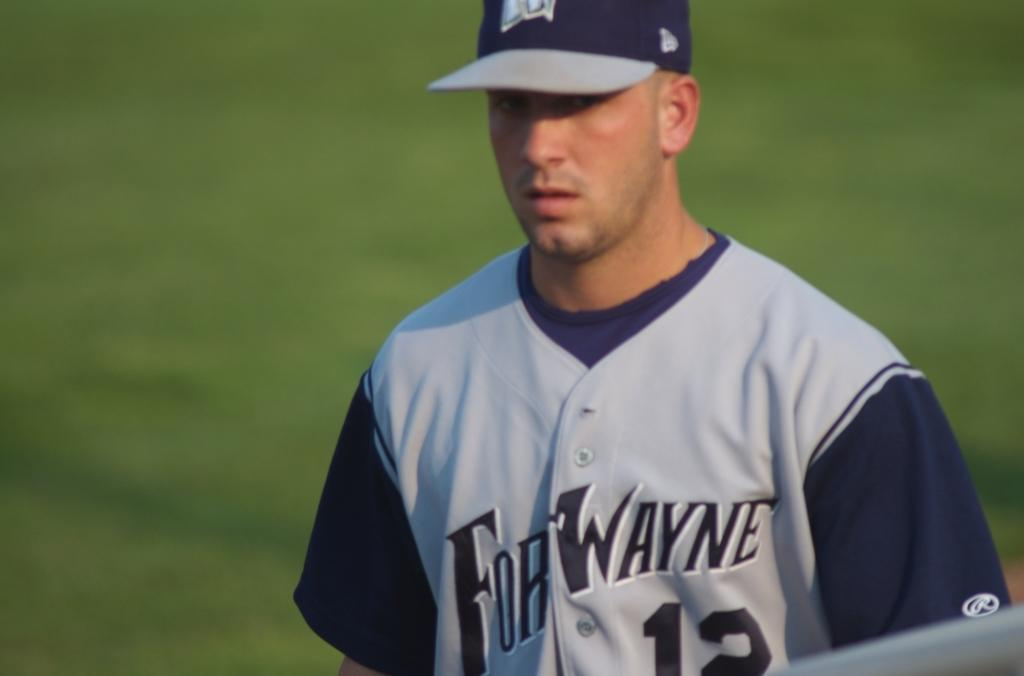Hat: (426, 0, 696, 99)
